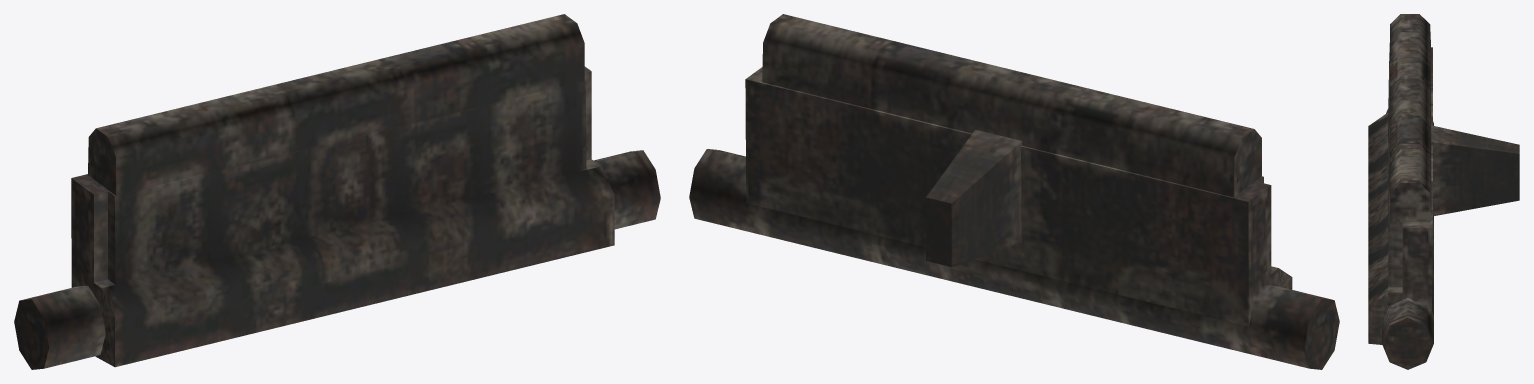
The picture shows the model from 3 angles, left to right: view 1: azimuth 30°, elevation 25°; view 2: azimuth 150°, elevation 25°; view 3: azimuth 270°, elevation 25°; orthographic projection. The views are drawn at different scales.
Visible parts, largest first — view 1: set_0_group_0; view 2: set_0_group_0; view 3: set_0_group_0.
Boxes of the visible parts, x1=… form: set_0_group_0: x1=14, y1=14, x2=660, y2=369; set_0_group_0: x1=689, y1=14, x2=1339, y2=369; set_0_group_0: x1=1368, y1=14, x2=1519, y2=369.
Size of the model in its own units: 0.55 by 0.1876 by 0.1592.
1 material, 1 textured.
